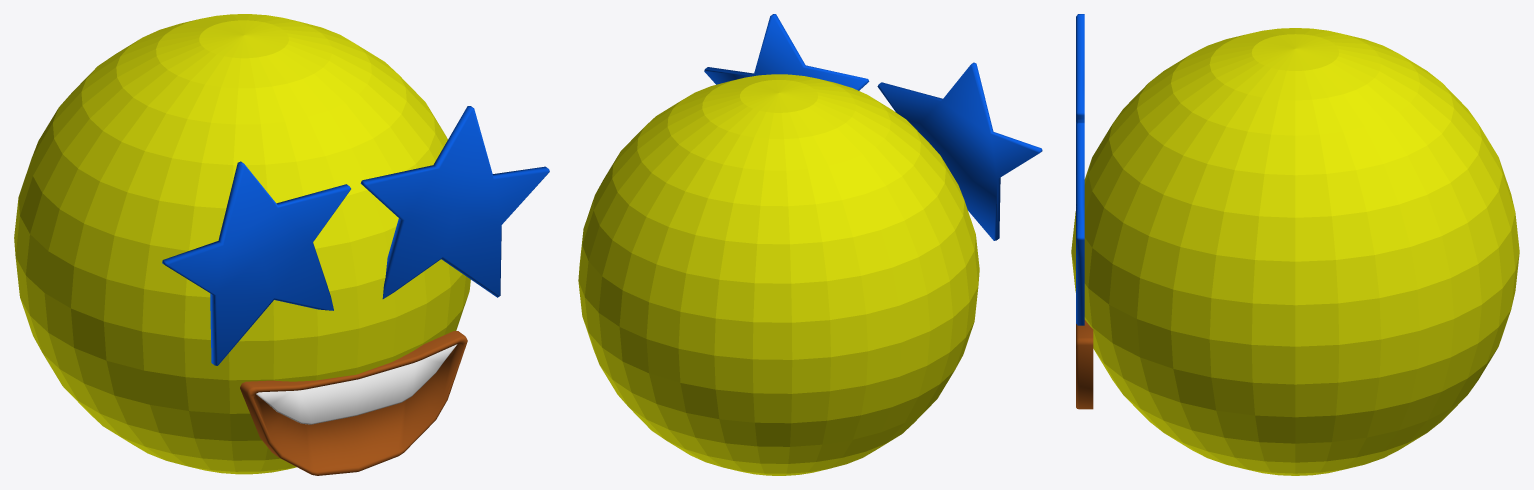
The model's file is StarEye.fbx.
The picture shows the model from 3 angles, left to right: view 1: azimuth 30°, elevation 25°; view 2: azimuth 150°, elevation 25°; view 3: azimuth 270°, elevation 25°; orthographic projection. The views are drawn at different scales.
Visible parts, largest first — view 1: StarEye; view 2: StarEye; view 3: StarEye.
Part boxes in pixels (box(x1,y1,x2,y2)): StarEye: box(14, 14, 549, 475); StarEye: box(578, 14, 1042, 475); StarEye: box(1071, 14, 1519, 475).
Bounding box in the file's own units: 89.67 × 89.67 × 89.67.
